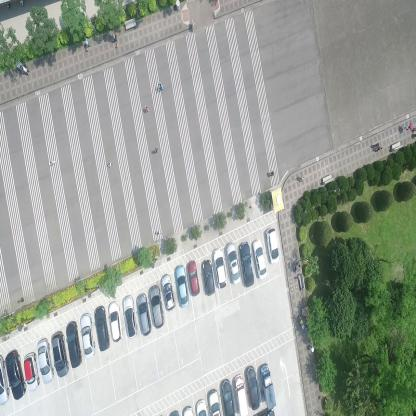car: (5, 349, 26, 401), (50, 330, 70, 378), (36, 337, 54, 385), (260, 362, 277, 410), (148, 283, 165, 330), (93, 304, 110, 351), (239, 240, 255, 288), (66, 320, 82, 368), (80, 311, 96, 358), (122, 292, 138, 338), (245, 365, 261, 410), (107, 299, 123, 343), (136, 292, 151, 338), (174, 263, 189, 308), (226, 241, 241, 285), (234, 372, 249, 416), (212, 248, 228, 288), (252, 236, 267, 278), (23, 353, 40, 390), (265, 225, 280, 266), (160, 272, 176, 310), (202, 258, 216, 298), (187, 258, 200, 297), (221, 379, 235, 415), (0, 354, 10, 404), (208, 388, 222, 415), (196, 398, 209, 416)
